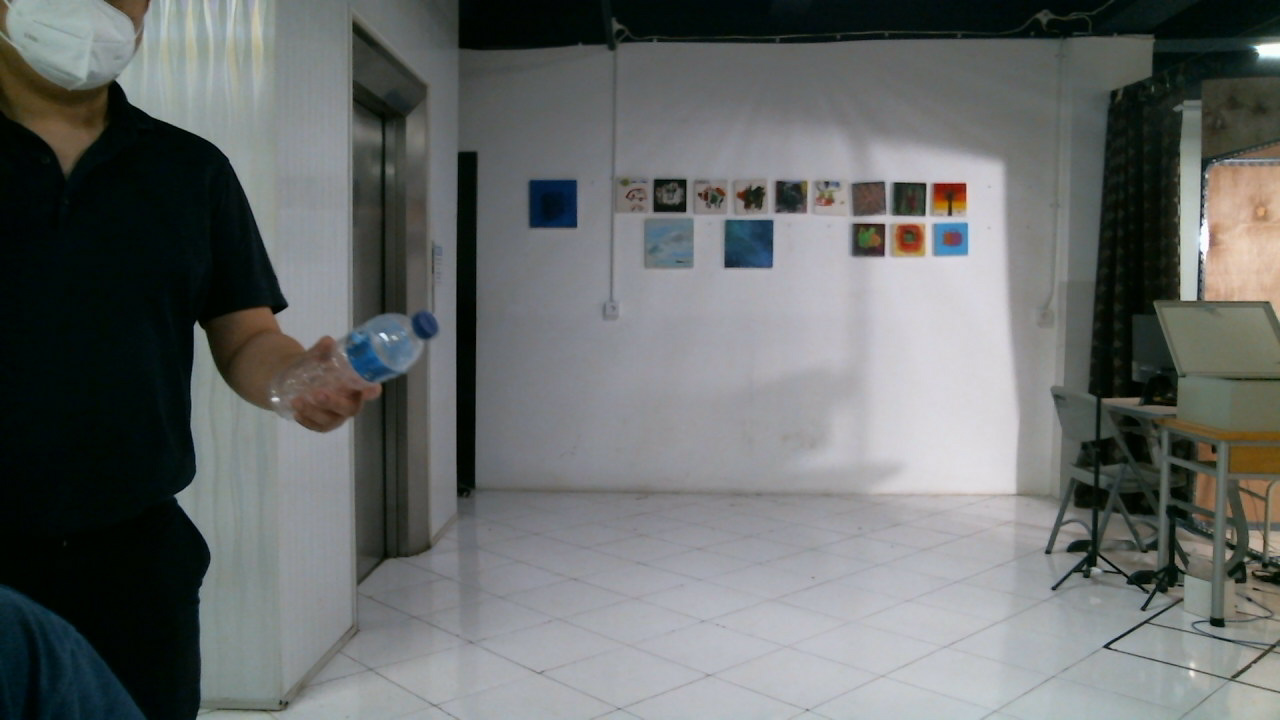Bottle: (275, 309, 439, 424)
